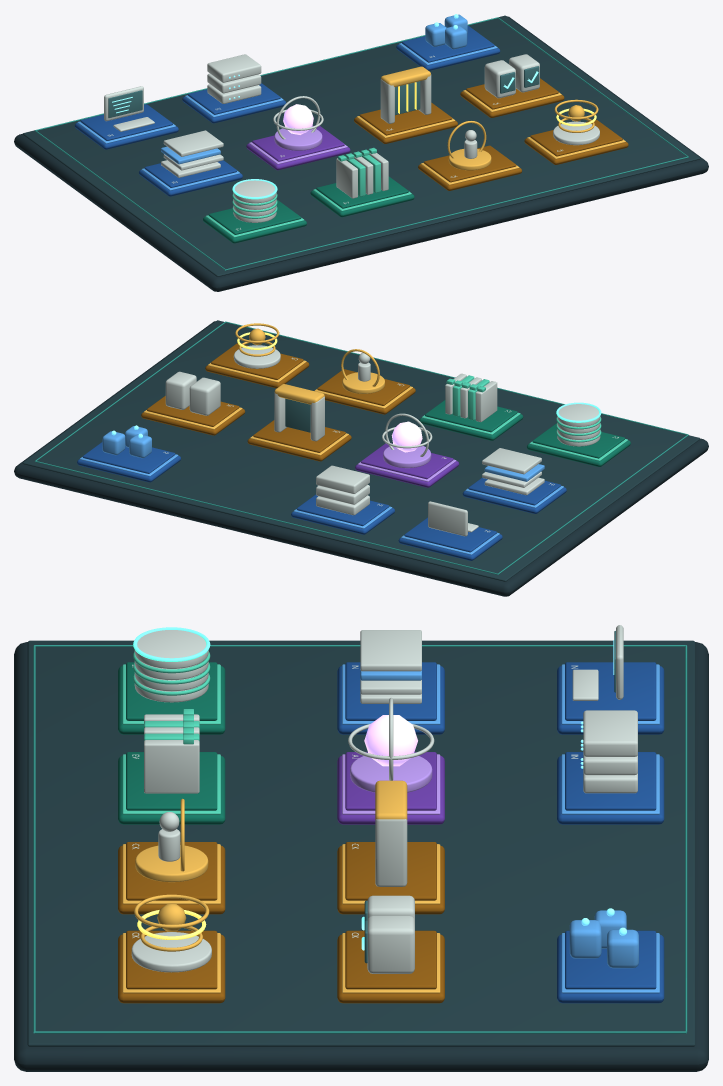
Rendered from assurance-platform.glb.
The picture shows the model from 3 angles, top to bottom: view 1: azimuth 30°, elevation 25°; view 2: azimuth 150°, elevation 25°; view 3: azimuth 270°, elevation 25°; orthographic projection. The views are drawn at different scales.
Visible parts, largest first — view 1: Inset surface, Foundation, deck_experience, deck_gateway, deck_application, deck_release, deck_evidence, deck_evaluation, deck_checks, deck_runtime, deck_corpus, Server.002 (+35 smaller); view 2: Inset surface, Foundation, deck_experience, deck_gateway, deck_application, deck_release, deck_evidence, deck_evaluation, Terminal, deck_checks, deck_runtime, deck_corpus (+36 smaller); view 3: Inset surface, Foundation, deck_gateway, deck_experience, deck_application, deck_checks, deck_delivery, deck_corpus, deck_release, Case card.004, deck_evaluation, Test chamber.001 (+46 smaller).
Boxes of the visible parts, bbox=[...] form: Inset surface: bbox=[22, 15, 700, 276]; Foundation: bbox=[14, 16, 708, 291]; deck_experience: bbox=[80, 104, 172, 140]; deck_gateway: bbox=[359, 102, 452, 135]; deck_application: bbox=[402, 25, 494, 62]; deck_release: bbox=[423, 145, 516, 182]; deck_evidence: bbox=[208, 199, 301, 234]; deck_evaluation: bbox=[530, 119, 622, 156]; deck_checks: bbox=[466, 78, 558, 109]; deck_runtime: bbox=[252, 125, 344, 161]; deck_corpus: bbox=[316, 176, 408, 208]; Server.002: bbox=[207, 54, 261, 82]; Inset surface: bbox=[22, 320, 700, 581]; Foundation: bbox=[14, 321, 708, 596]; deck_experience: bbox=[404, 517, 496, 552]; deck_gateway: bbox=[253, 420, 345, 452]; deck_application: bbox=[82, 442, 175, 473]; deck_release: bbox=[317, 369, 409, 405]; deck_evidence: bbox=[532, 423, 625, 458]; deck_evaluation: bbox=[211, 343, 303, 379]; Terminal: bbox=[428, 501, 467, 536]; deck_checks: bbox=[147, 396, 239, 426]; deck_runtime: bbox=[361, 443, 453, 479]; deck_corpus: bbox=[425, 400, 517, 432]; Inset surface: bbox=[27, 640, 695, 1046]; Foundation: bbox=[14, 642, 708, 1071]; deck_gateway: bbox=[345, 842, 436, 900]; deck_experience: bbox=[565, 662, 656, 720]; deck_application: bbox=[565, 930, 656, 989]; deck_checks: bbox=[345, 930, 436, 989]; deck_delivery: bbox=[565, 752, 656, 810]; deck_corpus: bbox=[126, 752, 217, 810]; deck_release: bbox=[126, 842, 217, 900]; Case card.004: bbox=[144, 740, 199, 793]; deck_evaluation: bbox=[126, 930, 217, 989]; Test chamber.001: bbox=[367, 915, 414, 973].
Bounding box in the file's own units: 21.5 × 2.93 × 15.2.
